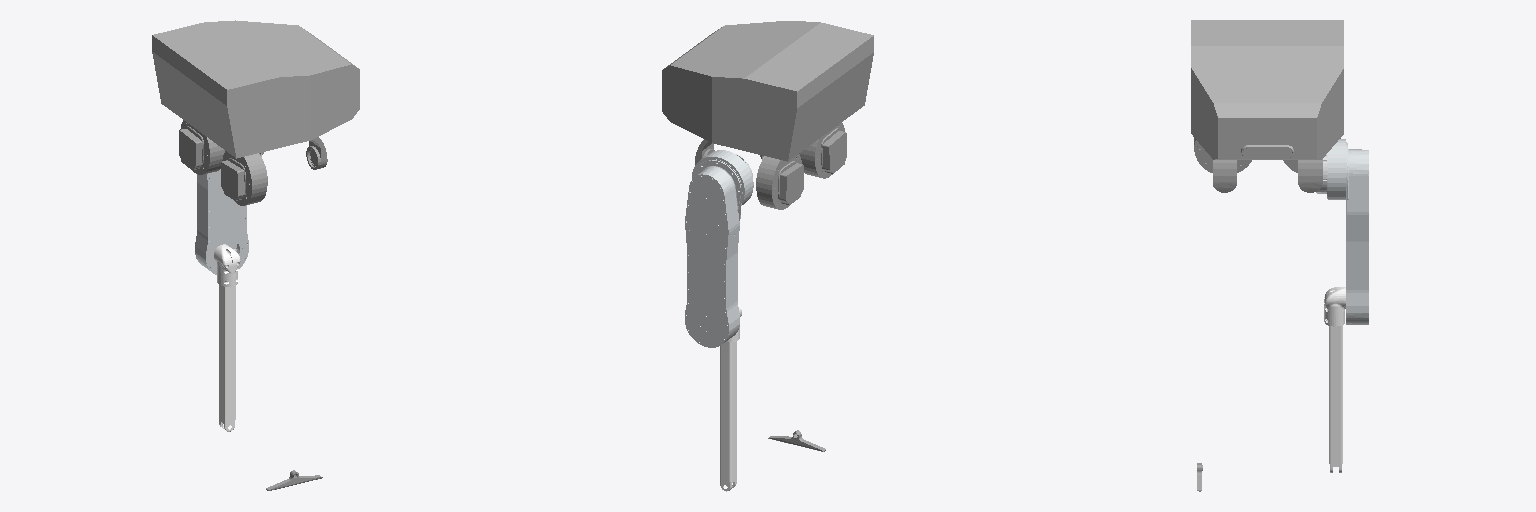
The robot description file, URDF, robot "biped":
<?xml version="1.0" encoding="utf-8"?>
<robot
  name="biped">

  <mujoco>
        <compiler 
        meshdir="../meshes/" 
        balanceinertia="true" 
        discardvisual="false" />
  </mujoco>

  <!-- Imu -->
  <link name="imu">
    <visual>
      <origin xyz="0 0 0" rpy="0 0 0"/>
      <geometry>
      <box size="0.03 0.03 0.01"/>
      </geometry>
      <material name="red"/>
    </visual>

    <inertial>
      <mass value="0.01" />
      <origin xyz="0 0 0" rpy="0 0 0"/>
      <inertia ixx="1e-5" ixy="0" ixz="0" iyy="1e-5" iyz="0" izz="1e-5" />
    </inertial>
  </link>

  <joint name="imu_joint" type="fixed">
      <origin xyz="0 0 0" rpy="-3.141592 0 0"/>
      <parent link="base_link"/>
      <child link="imu"/>
  </joint>

  <link
    name="base_link">
    <inertial>
      <origin
        xyz="-0.0448709592682471 -0.00330083392235171 0.0716121411080205"
        rpy="0 0 0" />
      <mass
        value="3.213" />
      <inertia
        ixx="0.00628451938896954"
        ixy="9.03731456394116E-06"
        ixz="3.74558764975459E-05"
        iyy="0.00292007116050446"
        iyz="2.33861350302106E-09"
        izz="0.00751646623969033" />
    </inertial>
    <visual>
      <origin
        xyz="0 0 0"
        rpy="0 0 0" />
      <geometry>
        <mesh
          filename="package://biped_robot_description/meshes/base_link.STL" />
      </geometry>
      <material
        name="">
        <color
          rgba="0.752941176470588 0.752941176470588 0.752941176470588 1" />
      </material>
    </visual>
    <collision>
      <origin
        xyz="0 0 0"
        rpy="0 0 0" />
      <geometry>
        <mesh
          filename="package://biped_robot_description/meshes/base_link.STL" />
      </geometry>
    </collision>
  </link>
  <link
    name="R_HIP">
    <inertial>
      <origin
        xyz="0.0219446414797471 2.88517182367443E-09 -0.03039168184157"
        rpy="0 0 0" />
      <mass
        value="0.0629568480892821" />
      <inertia
        ixx="5.16473545517217E-05"
        ixy="-3.57588662688557E-11"
        ixz="4.61970829805285E-05"
        iyy="0.000152966439888968"
        iyz="6.07063380526832E-12"
        izz="0.000116288804420767" />
    </inertial>
    <visual>
      <origin
        xyz="0 0 0"
        rpy="0 0 0" />
      <geometry>
        <mesh
          filename="package://biped_robot_description/meshes/R_HIP.STL" />
      </geometry>
      <material
        name="">
        <color
          rgba="0.698039215686274 0.698039215686274 0.698039215686274 0.25" />
      </material>
    </visual>
    <collision>
      <origin
        xyz="0 0 0"
        rpy="0 0 0" />
      <geometry>
        <mesh
          filename="package://biped_robot_description/meshes/R_HIP.STL" />
      </geometry>
    </collision>
  </link>
  <joint
    name="R_YAW"
    type="revolute">
    <origin
      xyz="0 -0.07 -0.005"
      rpy="0 0 0" />
    <parent
      link="base_link" />
    <child
      link="R_HIP" />
    <axis
      xyz="0 0 1" />
    <limit
      lower="-0.3"
      upper="0.3"
      effort="1000"
      velocity="1000" />
  </joint>
  <link
    name="R_SHOULDER">
    <inertial>
      <origin
        xyz="-0.0382844310441067 0.0118964401352487 0.00123886924581125"
        rpy="0 0 0" />
      <mass
        value="1.009" />
      <inertia
        ixx="0.000521980550813748"
        ixy="-9.2608882286471E-07"
        ixz="4.06359835642879E-06"
        iyy="0.000511051697800316"
        iyz="4.33469818121015E-06"
        izz="0.000392251171822902" />
    </inertial>
    <visual>
      <origin
        xyz="0 0 0"
        rpy="0 0 0" />
      <geometry>
        <mesh
          filename="package://biped_robot_description/meshes/R_SHOULDER.STL" />
      </geometry>
      <material
        name="">
        <color
          rgba="0.698039215686274 0.698039215686274 0.698039215686274 1" />
      </material>
    </visual>
    <collision>
      <origin
        xyz="0 0 0"
        rpy="0 0 0" />
      <geometry>
        <mesh
          filename="package://biped_robot_description/meshes/R_SHOULDER.STL" />
      </geometry>
    </collision>
  </link>
  <joint
    name="R_HAA"
    type="revolute">
    <origin
      xyz="0.0069 0 -0.081"
      rpy="0 0 0" />
    <parent
      link="R_HIP" />
    <child
      link="R_SHOULDER" />
    <axis
      xyz="1 0 0" />
    <limit
      lower="-0.25"
      upper="0.25"
      effort="1000"
      velocity="1000" />
  </joint>
  <link
    name="R_UPPER_LEG">
    <inertial>
      <origin
        xyz="0.000620534060432716 -0.0534946435046088 -0.0454640558620235"
        rpy="0 0 0" />
      <mass
        value="0.868" />
      <inertia
        ixx="0.00152517707561619"
        ixy="7.61908484564392E-07"
        ixz="-7.58552183552755E-07"
        iyy="0.00177977903535468"
        iyz="-1.40084073294317E-05"
        izz="0.00034816857217676" />
    </inertial>
    <visual>
      <origin
        xyz="0 0 0"
        rpy="0 0 0" />
      <geometry>
        <mesh
          filename="package://biped_robot_description/meshes/R_UPPER_LEG.STL" />
      </geometry>
      <material
        name="">
        <color
          rgba="0.698039215686274 0.698039215686274 0.698039215686274 1" />
      </material>
    </visual>
    <collision>
      <origin
        xyz="0 0 0"
        rpy="0 0 0" />
      <geometry>
        <mesh
          filename="package://biped_robot_description/meshes/R_UPPER_LEG.STL" />
      </geometry>
    </collision>
  </link>
  <joint
    name="R_HFE"
    type="revolute">
    <origin
      xyz="0 0 0"
      rpy="0 0 0" />
    <parent
      link="R_SHOULDER" />
    <child
      link="R_UPPER_LEG" />
    <axis
      xyz="0 1 0" />
    <limit
      lower="-1.5"
      upper="1.5"
      effort="1000"
      velocity="1000" />
  </joint>
  <link
    name="R_LOWER_LEG">
    <inertial>
      <origin
        xyz="8.90943035473588E-06 0.0171035437362773 -0.111753901368554"
        rpy="0 0 0" />
      <mass
        value="0.0923618682215971" />
      <inertia
        ixx="0.000437183481260274"
        ixy="-1.07399882823237E-08"
        ixz="1.2919531348441E-08"
        iyy="0.000437218894302395"
        iyz="1.30274858435484E-06"
        izz="1.55764253409593E-05" />
    </inertial>
    <visual>
      <origin
        xyz="0 0 0"
        rpy="0 0 0" />
      <geometry>
        <mesh
          filename="package://biped_robot_description/meshes/R_LOWER_LEG.STL" />
      </geometry>
      <material
        name="">
        <color
          rgba="1 1 1 1" />
      </material>
    </visual>
    <collision>
      <origin
        xyz="0 0 0"
        rpy="0 0 0" />
      <geometry>
        <mesh
          filename="package://biped_robot_description/meshes/R_LOWER_LEG.STL" />
      </geometry>
    </collision>
  </link>
  <joint
    name="R_KFE"
    type="revolute">
    <origin
      xyz="0 -0.0584 -0.23405"
      rpy="0 0 0" />
    <parent
      link="R_UPPER_LEG" />
    <child
      link="R_LOWER_LEG" />
    <axis
      xyz="0 1 0" />
    <limit
      lower="-2.2"
      upper="2.2"
      effort="1000"
      velocity="1000" />
  </joint>
  <link
    name="R_FOOT">
    <inertial>
      <origin
        xyz="-3.02321900789403E-05 2.36197425507179E-08 -0.0242542849058649"
        rpy="0 0 0" />
      <mass
        value="0.0313407448211579" />
      <inertia
        ixx="1.53505900340827E-06"
        ixy="3.21655852895147E-11"
        ixz="3.87851927561161E-09"
        iyy="3.35525061902405E-05"
        iyz="-1.30436886653959E-12"
        izz="3.3989583673629E-05" />
    </inertial>
    <visual>
      <origin
        xyz="0 0 0"
        rpy="0 0 0" />
      <geometry>
        <mesh
          filename="package://biped_robot_description/meshes/R_FOOT.STL" />
      </geometry>
      <material
        name="">
        <color
          rgba="0.698039215686274 0.698039215686274 0.698039215686274 1" />
      </material>
    </visual>
    <collision>
      <origin
        xyz="0 0 0"
        rpy="0 0 0" />
      <geometry>
        <mesh
          filename="package://biped_robot_description/meshes/R_FOOT.STL" />
      </geometry>
    </collision>
  </link>
  <joint
    name="R_ANKLE"
    type="revolute">
    <origin
      xyz="0 0.0173 -0.30826"
      rpy="0 0 0" />
    <parent
      link="R_LOWER_LEG" />
    <child
      link="R_FOOT" />
    <axis
      xyz="0 1 0" />
    <limit
      lower="-0.6"
      upper="0.6"
      effort="1000"
      velocity="1000" />
  </joint>

  <link name="R_FOOT_CONTACT"></link>
  <joint
    name="R_FOOT_CONTACT_JOINT"
    type="fixed">
    <origin
      xyz="0.0 0.0173 -0.30826"
      rpy="0 0 0" />
    <parent link="R_LOWER_LEG" />
    <child link="R_FOOT_CONTACT" />
  </joint>


  <link
    name="L_HIP">
    <inertial>
      <origin
        xyz="0.0219446414797471 2.88517175428549E-09 -0.0303916818415699"
        rpy="0 0 0" />
      <mass
        value="0.0629568480892822" />
      <inertia
        ixx="5.16473545517216E-05"
        ixy="-3.57588662405679E-11"
        ixz="4.61970829805285E-05"
        iyy="0.000152966439888968"
        iyz="6.07063377437121E-12"
        izz="0.000116288804420767" />
    </inertial>
    <visual>
      <origin
        xyz="0 0 0"
        rpy="0 0 0" />
      <geometry>
        <mesh
          filename="package://biped_robot_description/meshes/L_HIP.STL" />
      </geometry>
      <material
        name="">
        <color
          rgba="0.698039215686274 0.698039215686274 0.698039215686274 0.25" />
      </material>
    </visual>
    <collision>
      <origin
        xyz="0 0 0"
        rpy="0 0 0" />
      <geometry>
        <mesh
          filename="package://biped_robot_description/meshes/L_HIP.STL" />
      </geometry>
    </collision>
  </link>
  <joint
    name="L_YAW"
    type="revolute">
    <origin
      xyz="0 0.07 -0.005"
      rpy="0 0 0" />
    <parent
      link="base_link" />
    <child
      link="L_HIP" />
    <axis
      xyz="0 0 1" />
    <limit
      lower="-0.3"
      upper="0.3"
      effort="1000"
      velocity="1000" />
  </joint>
  <link
    name="L_SHOULDER">
    <inertial>
      <origin
        xyz="-0.0382844310532301 -0.0118964398242502 0.00204771986272136"
        rpy="0 0 0" />
      <mass
        value="1.009" />
      <inertia
        ixx="0.000521980547134007"
        ixy="9.26094596161881E-07"
        ixz="4.0636070608477E-06"
        iyy="0.000511051694581175"
        iyz="4.33470011300503E-06"
        izz="0.000392251170952583" />
    </inertial>
    <visual>
      <origin
        xyz="0 0 0"
        rpy="0 0 0" />
      <geometry>
        <mesh
          filename="package://biped_robot_description/meshes/L_SHOULDER.STL" />
      </geometry>
      <material
        name="">
        <color
          rgba="0.698039215686274 0.698039215686274 0.698039215686274 1" />
      </material>
    </visual>
    <collision>
      <origin
        xyz="0 0 0"
        rpy="0 0 0" />
      <geometry>
        <mesh
          filename="package://biped_robot_description/meshes/L_SHOULDER.STL" />
      </geometry>
    </collision>
  </link>
  <joint
    name="L_HAA"
    type="revolute">
    <origin
      xyz="0.0069 0 -0.081"
      rpy="0 0 0" />
    <parent
      link="L_HIP" />
    <child
      link="L_SHOULDER" />
    <axis
      xyz="1 0 0" />
    <limit
      lower="-0.25"
      upper="0.25"
      effort="1000"
      velocity="1000" />
  </joint>
  <link
    name="L_UPPER_LEG">
    <inertial>
      <origin
        xyz="-0.000328851371267098 0.0508506776100633 -0.0528923575613315"
        rpy="0 0 0" />
      <mass
        value="0.8684" />
      <inertia
        ixx="0.00110960756931559"
        ixy="7.62193303280927E-07"
        ixz="7.86366765052434E-07"
        iyy="0.00134742538778517"
        iyz="1.40083657004109E-05"
        izz="0.000337097363318948" />
    </inertial>
    <visual>
      <origin
        xyz="0 0 0"
        rpy="0 0 0" />
      <geometry>
        <mesh
          filename="package://biped_robot_description/meshes/L_UPPER_LEG.STL" />
      </geometry>
      <material
        name="">
        <color
          rgba="0.898039215686275 0.917647058823529 0.929411764705882 1" />
      </material>
    </visual>
    <collision>
      <origin
        xyz="0 0 0"
        rpy="0 0 0" />
      <geometry>
        <mesh
          filename="package://biped_robot_description/meshes/L_UPPER_LEG.STL" />
      </geometry>
    </collision>
  </link>
  <joint
    name="L_HFE"
    type="revolute">
    <origin
      xyz="0 0 0"
      rpy="0 0 0" />
    <parent
      link="L_SHOULDER" />
    <child
      link="L_UPPER_LEG" />
    <axis
      xyz="0 1 0" />
    <limit
      lower="-1.5"
      upper="1.5"
      effort="1000"
      velocity="1000" />
  </joint>
  <link
    name="L_LOWER_LEG">
    <inertial>
      <origin
        xyz="-8.90943035471766E-06 -0.0176035437362774 -0.111753901368554"
        rpy="0 0 0" />
      <mass
        value="0.0923618682215969" />
      <inertia
        ixx="0.000437183481260274"
        ixy="-1.07399882823296E-08"
        ixz="-1.29195313484862E-08"
        iyy="0.000437218894302394"
        iyz="-1.30274858435487E-06"
        izz="1.55764253409593E-05" />
    </inertial>
    <visual>
      <origin
        xyz="0 0 0"
        rpy="0 0 0" />
      <geometry>
        <mesh
          filename="package://biped_robot_description/meshes/L_LOWER_LEG.STL" />
      </geometry>
      <material
        name="">
        <color
          rgba="1 1 1 1" />
      </material>
    </visual>
    <collision>
      <origin
        xyz="0 0 0"
        rpy="0 0 0" />
      <geometry>
        <mesh
          filename="package://biped_robot_description/meshes/L_LOWER_LEG.STL" />
      </geometry>
    </collision>
  </link>
  <joint
    name="L_KFE"
    type="revolute">
    <origin
      xyz="0 0.0589 -0.23405"
      rpy="0 0 0" />
    <parent
      link="L_UPPER_LEG" />
    <child
      link="L_LOWER_LEG" />
    <axis
      xyz="0 1 0" />
    <limit
      lower="-2.2"
      upper="2.2"
      effort="1000"
      velocity="1000" />
  </joint>
  <link
    name="L_FOOT">
    <inertial>
      <origin
        xyz="3.02321900789151E-05 -2.36197425507179E-08 -0.0242542849058648"
        rpy="0 0 0" />
      <mass
        value="0.0313407448211584" />
      <inertia
        ixx="1.53505900340824E-06"
        ixy="3.21655852743254E-11"
        ixz="-3.8785192756099E-09"
        iyy="3.35525061902412E-05"
        iyz="1.30436886701902E-12"
        izz="3.39895836736297E-05" />
    </inertial>
    <visual>
      <origin
        xyz="0 0 0"
        rpy="0 0 0" />
      <geometry>
        <mesh
          filename="package://biped_robot_description/meshes/L_FOOT.STL" />
      </geometry>
      <material
        name="">
        <color
          rgba="0.698039215686274 0.698039215686274 0.698039215686274 1" />
      </material>
    </visual>
    <collision>
      <origin
        xyz="0 0 0"
        rpy="0 0 0" />
      <geometry>
        <mesh
          filename="package://biped_robot_description/meshes/L_FOOT.STL" />
      </geometry>
    </collision>
  </link>
  <joint
    name="L_ANKLE"
    type="revolute">
    <origin
      xyz="0 -0.0173 -0.30826"
      rpy="0 0 0" />
    <parent
      link="L_LOWER_LEG" />
    <child
      link="L_FOOT" />
    <axis
      xyz="0 1 0" />
    <limit
      lower="-0.6"
      upper="0.6"
      effort="1000"
      velocity="1000" />
  </joint>

  <link name="L_FOOT_CONTACT"></link>
  <joint
    name="L_FOOT_CONTACT_JOINT"
    type="fixed">
    <origin
      xyz="0.0 -0.0173 -0.30826"
      rpy="0 0 0" />
    <parent link="L_LOWER_LEG" />
    <child link="L_FOOT_CONTACT" />
  </joint>

</robot>

--- Render facts (derived) ---
3 views of the same robot in one strip: view 1: azimuth 30°, elevation 25°; view 2: azimuth 150°, elevation 25°; view 3: azimuth 270°, elevation 25° (orthographic).
Robot: biped — 14 links, 13 joints (10 revolute, 3 fixed); root link base_link; default pose: every joint at zero.
Links seen in each view (by area): view 1: base_link, L_UPPER_LEG, L_LOWER_LEG, R_HIP, L_HIP; view 2: base_link, L_UPPER_LEG, L_LOWER_LEG, L_HIP, R_HIP; view 3: base_link, L_UPPER_LEG, L_LOWER_LEG, R_HIP, L_HIP.
Link boxes in pixels (left/top/right/bottom): base_link: left=152, top=20, right=359, bottom=158; L_UPPER_LEG: left=195, top=169, right=248, bottom=274; L_LOWER_LEG: left=214, top=244, right=240, bottom=431; R_HIP: left=221, top=137, right=327, bottom=205; L_HIP: left=179, top=120, right=224, bottom=174; base_link: left=662, top=21, right=873, bottom=161; L_UPPER_LEG: left=685, top=150, right=753, bottom=347; L_LOWER_LEG: left=720, top=308, right=741, bottom=491; L_HIP: left=695, top=139, right=803, bottom=209; R_HIP: left=799, top=123, right=846, bottom=178; base_link: left=1191, top=20, right=1343, bottom=159; L_UPPER_LEG: left=1316, top=139, right=1368, bottom=324; L_LOWER_LEG: left=1324, top=287, right=1345, bottom=472; R_HIP: left=1194, top=138, right=1251, bottom=192; L_HIP: left=1283, top=138, right=1340, bottom=192.
Bounding box of the posed robot: 0.2854 × 0.2904 × 0.7621 m (x, y, z).
6 mesh visuals loaded from 11 distinct referenced files (6 binary STL); not drawn: 5 (reference not matched to a file when rendering).